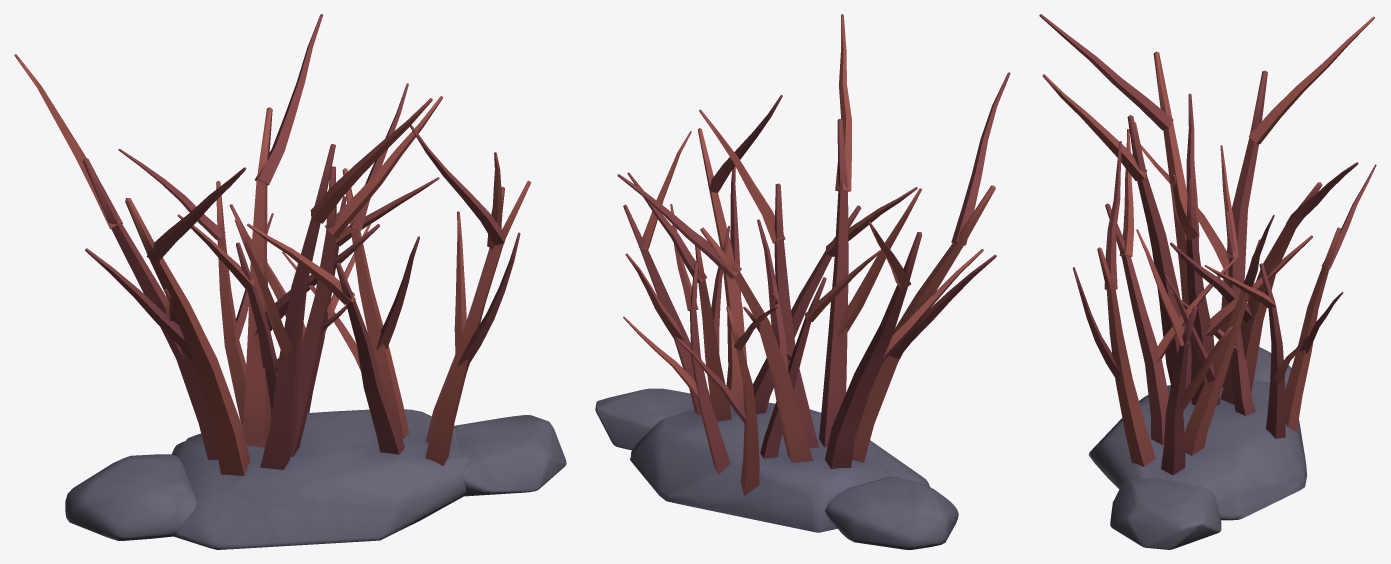
Rendered from EF_P04_AshShrub.fbx.
3 views of the same model, side by side, from view 1: azimuth 30°, elevation 25°; view 2: azimuth 150°, elevation 25°; view 3: azimuth 270°, elevation 25° (orthographic). The views are drawn at different scales.
Visible parts, largest first — view 1: Base, Cluster_A, Cluster_B, Cluster_C; view 2: Cluster_A, Base, Cluster_B, Cluster_C; view 3: Cluster_A, Base, Cluster_B, Cluster_C.
Boxes of the visible parts, box(x1,y1,x2,y2) form: Base: box(65, 409, 566, 549); Cluster_A: box(14, 14, 442, 475); Cluster_B: box(247, 83, 531, 466); Cluster_C: box(118, 148, 439, 423); Cluster_A: box(617, 14, 1010, 468); Base: box(595, 388, 958, 549); Cluster_B: box(623, 95, 917, 421); Cluster_C: box(623, 204, 881, 495); Cluster_A: box(1039, 14, 1374, 405); Base: box(1088, 347, 1307, 549); Cluster_B: box(1072, 129, 1274, 475); Cluster_C: box(1170, 145, 1376, 438).
Bounding box in the file's own units: 0.9841 × 0.9304 × 0.7248.
